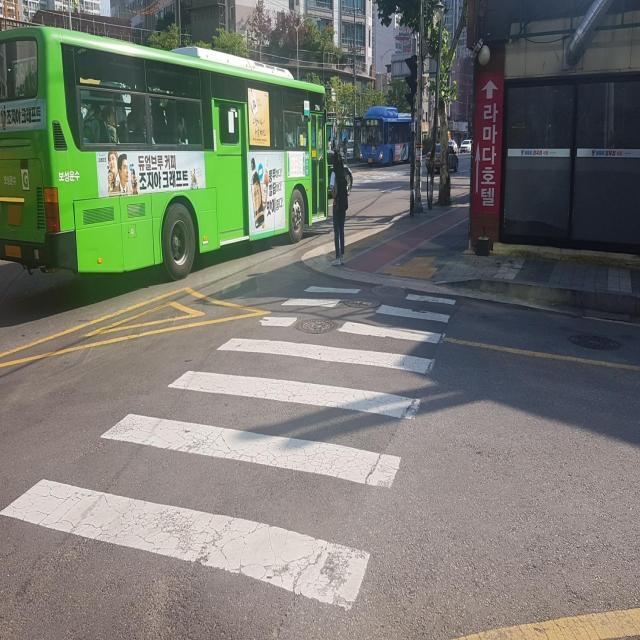횡단보도: (0, 278, 461, 616)
